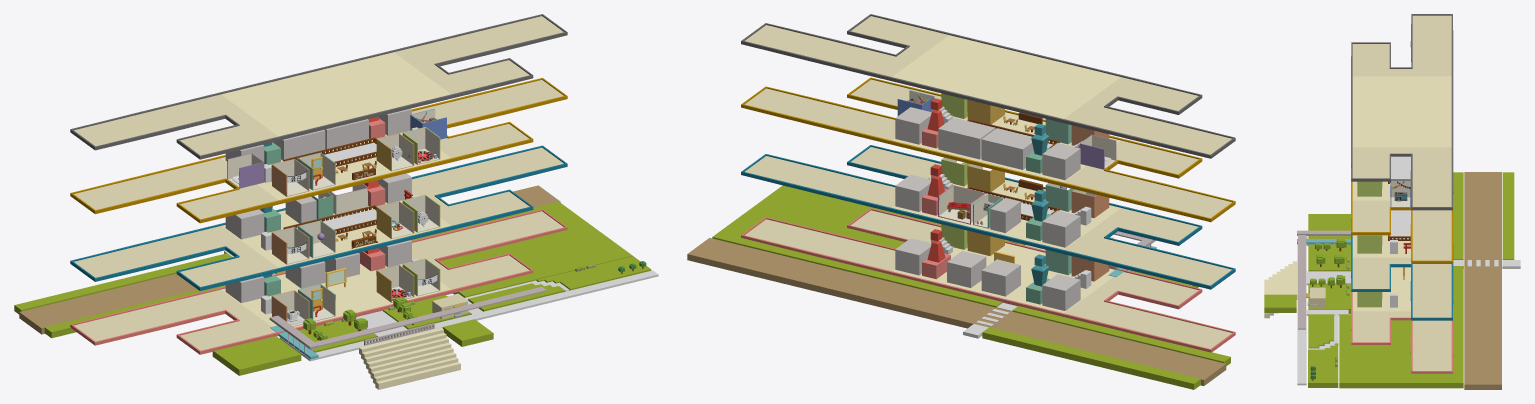
Rendered from souzou8.glb.
3 views of the same model, side by side, from view 1: azimuth 30°, elevation 25°; view 2: azimuth 150°, elevation 25°; view 3: azimuth 270°, elevation 25° (orthographic). The views are drawn at different scales.
Parts seen in each view (by area): view 1: F4, ground, F1, F2, F3, 立方体.001, 3_other, 1_other, 2_other, 立方体.002, 3_3, 3_1 (+17 smaller); view 2: F4, F1, F2, F3, 立方体.001, ground, 3_other, 1_other, 2_other, 立方体.002, 立方体, 2_5 (+20 smaller); view 3: F4, ground, 立方体.001, F1, F2, F3, 立方体.002, 立方体, 3_6, invisible2, 2_4, invisible5 (+3 smaller).
Boxes of the visible parts, bbox=[...] form: F4: bbox=[70, 14, 567, 159]; ground: bbox=[212, 201, 658, 389]; F1: bbox=[70, 209, 567, 354]; F2: bbox=[70, 145, 567, 290]; F3: bbox=[70, 78, 567, 223]; 立方体.001: bbox=[19, 185, 560, 334]; 3_other: bbox=[225, 108, 411, 161]; 1_other: bbox=[225, 240, 411, 303]; 2_other: bbox=[225, 173, 411, 239]; 立方体.002: bbox=[14, 253, 232, 314]; 3_3: bbox=[376, 133, 414, 171]; 3_1: bbox=[271, 159, 309, 196]; F4: bbox=[741, 14, 1235, 158]; F1: bbox=[741, 208, 1235, 352]; F2: bbox=[741, 145, 1235, 289]; F3: bbox=[741, 77, 1235, 222]; 立方体.001: bbox=[687, 238, 1226, 385]; ground: bbox=[712, 185, 1198, 307]; 3_other: bbox=[895, 107, 1080, 180]; 1_other: bbox=[895, 238, 1080, 310]; 2_other: bbox=[895, 174, 1080, 247]; 立方体.002: bbox=[982, 327, 1200, 389]; 立方体: bbox=[1012, 306, 1230, 365]; 2_5: bbox=[938, 185, 985, 224]; F4: bbox=[1351, 14, 1453, 210]; ground: bbox=[1264, 214, 1463, 388]; 立方体.001: bbox=[1464, 172, 1501, 389]; F1: bbox=[1351, 267, 1453, 373]; F2: bbox=[1351, 221, 1453, 320]; F3: bbox=[1351, 168, 1453, 263]; 立方体.002: bbox=[1502, 172, 1514, 259]; 立方体: bbox=[1453, 172, 1463, 259]; 3_6: bbox=[1390, 180, 1410, 206]; invisible2: bbox=[1390, 210, 1410, 239]; 2_4: bbox=[1357, 235, 1382, 253]; invisible5: bbox=[1391, 156, 1410, 179].
Size of the model in its own units: 176 by 73.39 by 89.51.
